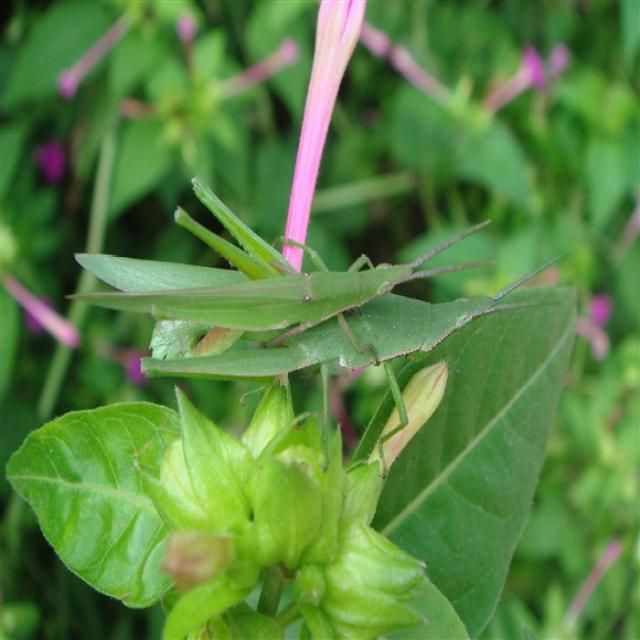ZhaMeng: (44, 174, 506, 342)
